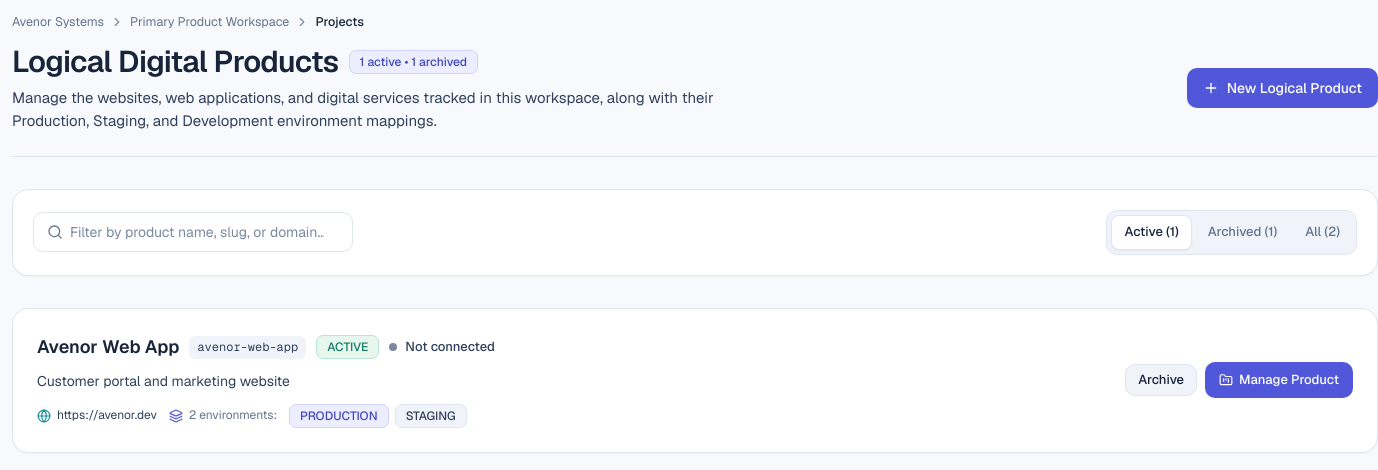
Test: THE-116: Responsive Application Shell, Onboarding Flow, and Projects Directory › filters logical products in ProjectsDirectory by search query and status
The width and height of the screenshot is (1378, 470).
expect the element with test id "project-card-avenor-web-app" is shown: met, box [12, 308, 1377, 453]
// Switch to Archived tab
Click the tab "Archived (1)". click: (1243, 232)
box: [1196, 216, 1289, 249]
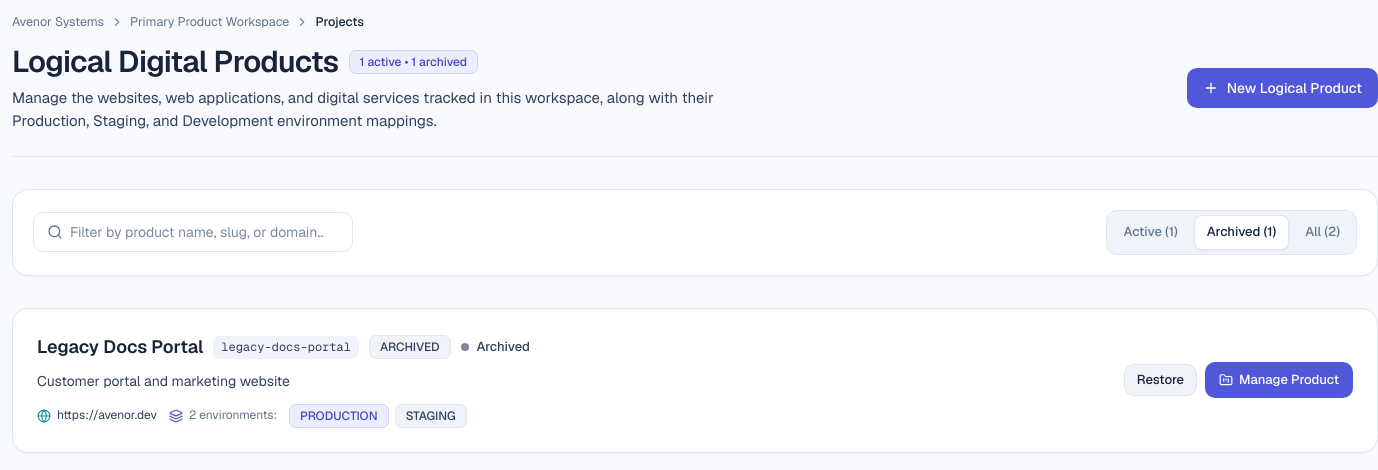
expect the element with test id "project-card-legacy-docs-portal" is shown: met, box [12, 308, 1377, 453]
